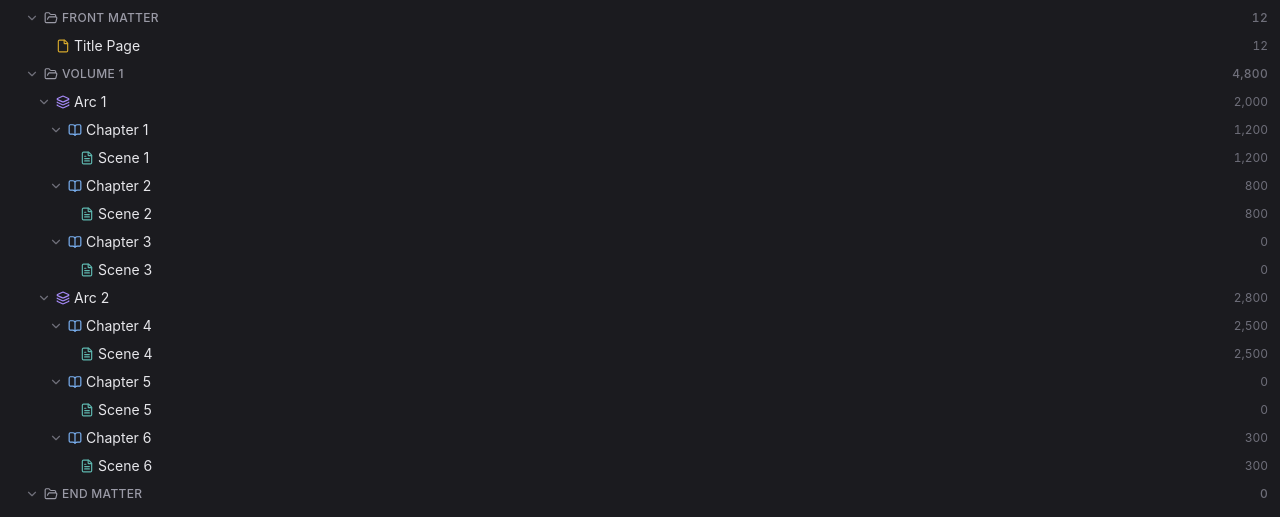
Test: ManuscriptTree › collapses and expands a folder from its chevron
Click the button named "Collapse Arc 1". click: x=44, y=102
box: [36, 94, 52, 110]
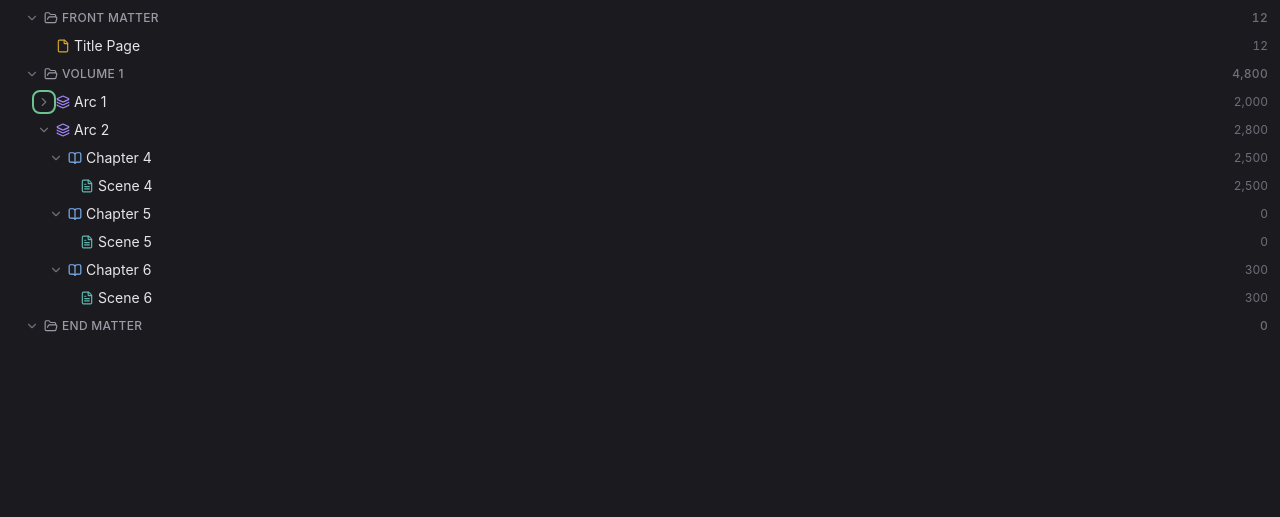
Expected: the list item "Chapter 4" is shown, [4, 144, 1276, 200]
Expected: the list item "Arc 1" is collapsed, [4, 88, 1276, 116]
Expected: the text "Chapter 1" is gone
Click the button named "Expand Arc 1". click: x=44, y=102
box: [36, 94, 52, 110]
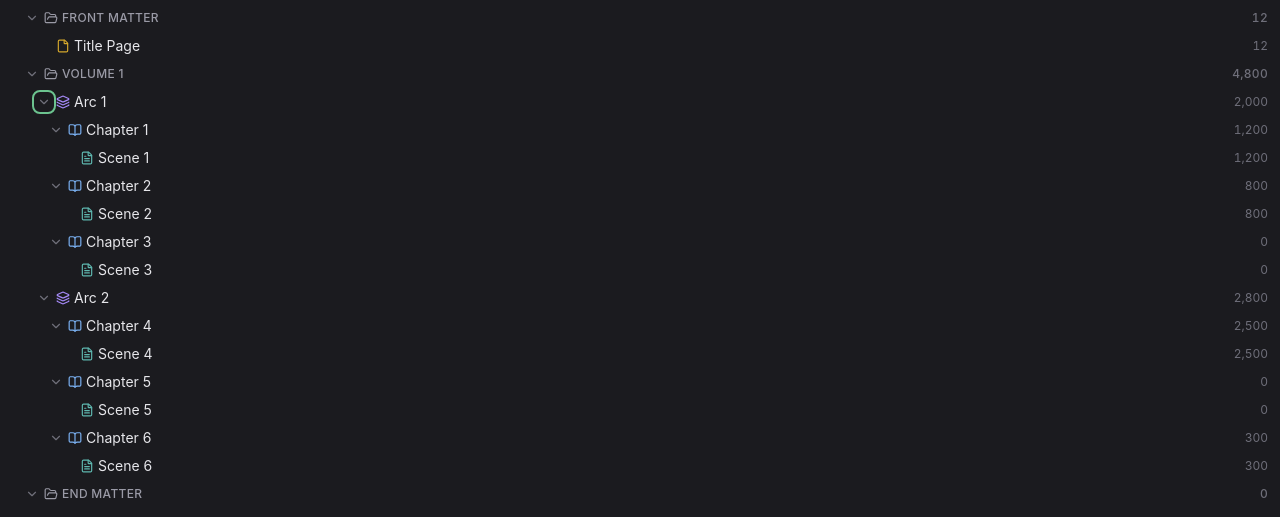
Expected: the list item "Chapter 1" is shown, [4, 116, 1276, 172]
Expected: the list item "Arc 1" is expanded, [4, 88, 1276, 284]
